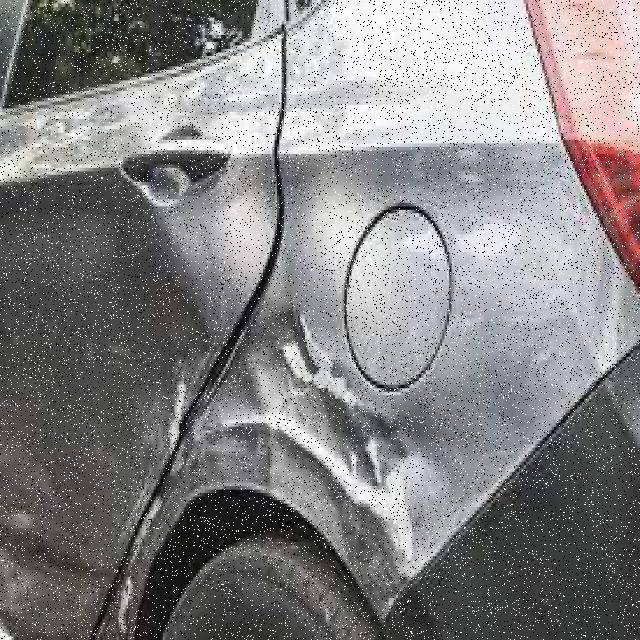doorouter-dent: (0, 77, 196, 511)
quaterpanel-dent: (267, 25, 516, 584)
